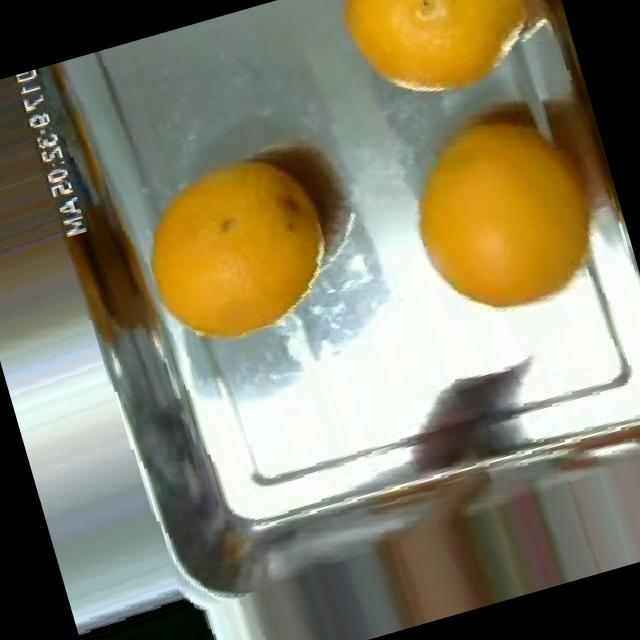Fruit: (120, 136, 354, 368), (72, 577, 236, 640)
